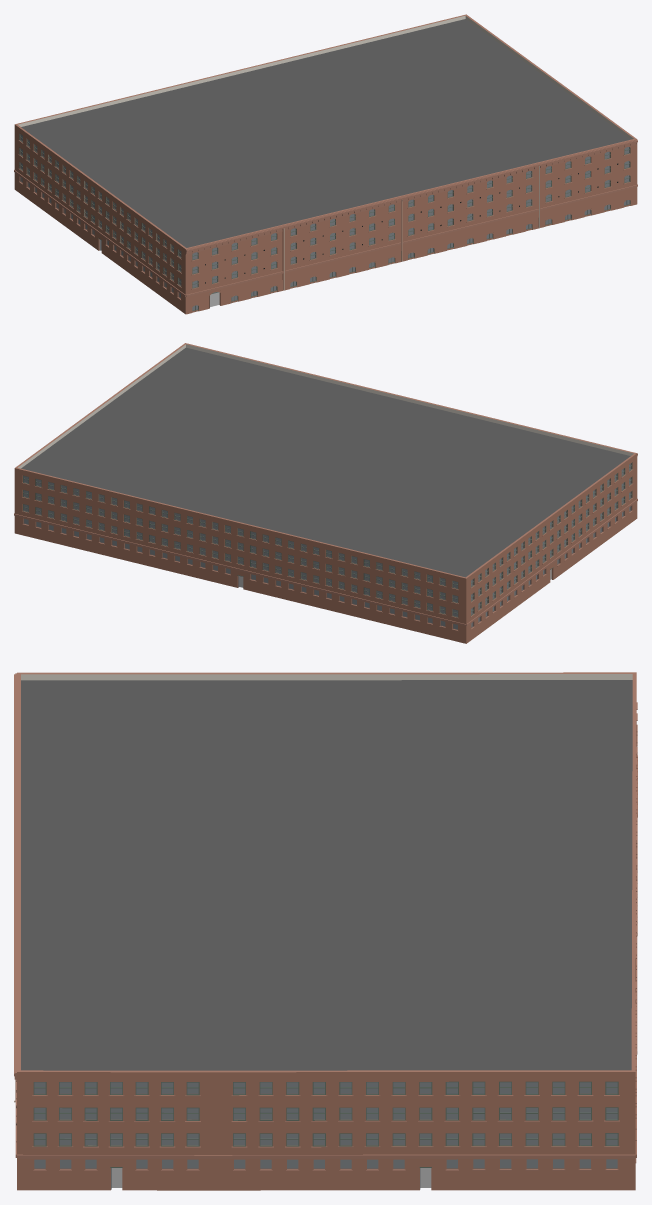
The model's file is exterior.glb.
3 renders of one model, top to bottom at view 1: azimuth 30°, elevation 25°; view 2: azimuth 150°, elevation 25°; view 3: azimuth 270°, elevation 25°, orthographic. The views are drawn at different scales.
Parts seen in each view (by area): view 1: roof, shell, trim, glazing, frames, shadow-proxy, storefront, hyC-arches-0, hand-ornament; view 2: roof, shell, glazing, frames, shadow-proxy, trim; view 3: roof, shell, glazing, shadow-proxy, trim, frames.
Part boxes in pixels (x1,y1,x2,y2): roof: [21, 19, 630, 247]; shell: [14, 14, 637, 314]; trim: [14, 139, 637, 300]; glazing: [20, 134, 629, 310]; frames: [19, 133, 630, 288]; shadow-proxy: [21, 135, 629, 309]; storefront: [98, 200, 630, 312]; hyC-arches-0: [192, 146, 630, 306]; hand-ornament: [282, 167, 540, 279]; roof: [21, 347, 630, 577]; shell: [14, 343, 637, 643]; glazing: [23, 463, 631, 629]; frames: [23, 462, 632, 617]; shadow-proxy: [24, 464, 630, 628]; trim: [14, 343, 637, 630]; roof: [21, 680, 632, 1070]; shell: [17, 672, 636, 1190]; glazing: [34, 1082, 617, 1169]; shadow-proxy: [34, 1082, 617, 1187]; trim: [14, 673, 637, 1170]; frames: [33, 1081, 618, 1146].
Bounding box in the file's own units: 83.57 × 11.5 × 54.97.
